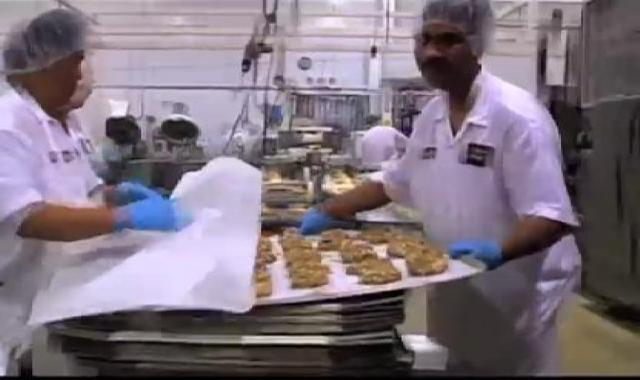hairnet: (3, 7, 103, 80), (421, 1, 521, 64)
